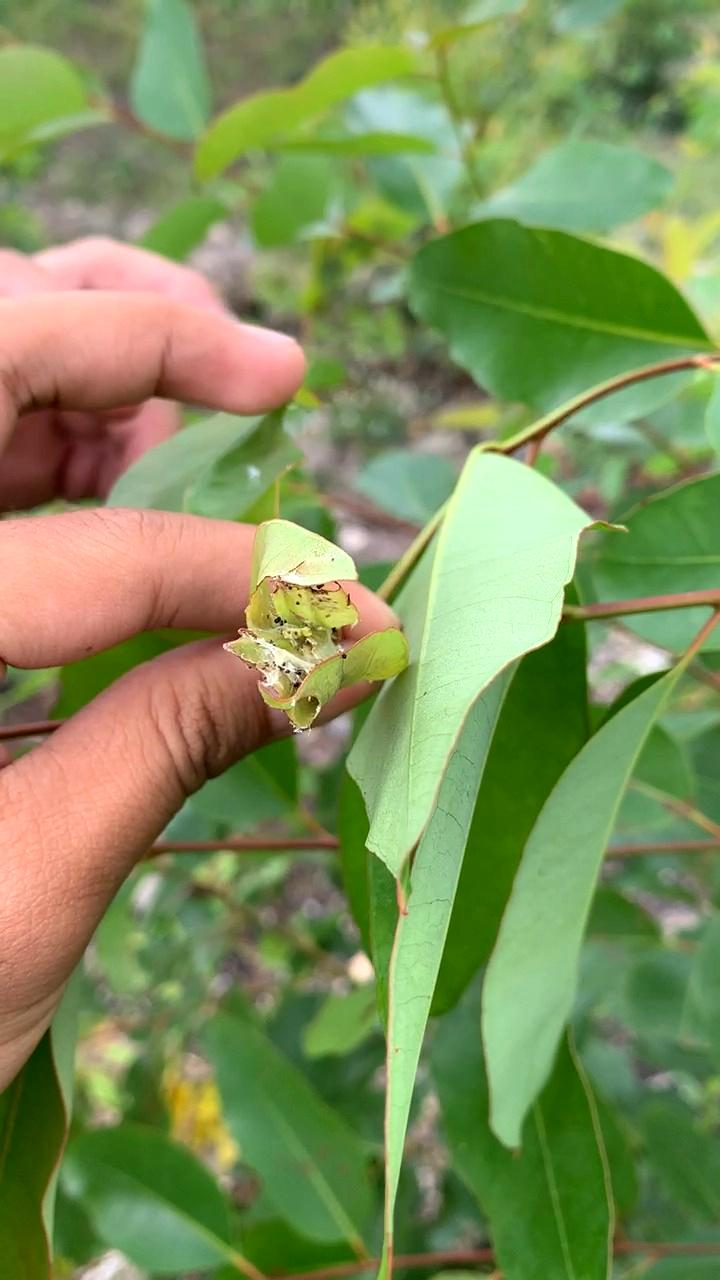Leaf Roller - Leaf: (243, 511, 385, 731)
